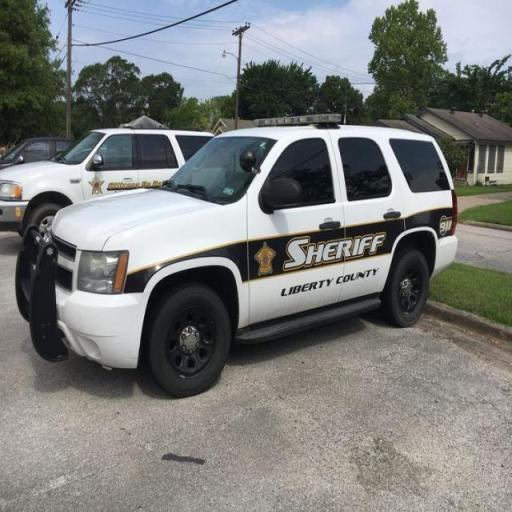Ambulance: (17, 103, 456, 373), (0, 124, 179, 235)
